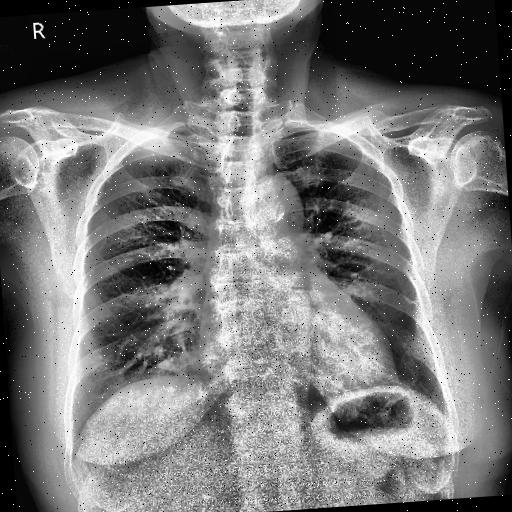0- Aortic enlargement: (240, 171, 306, 242), (245, 171, 305, 241), (248, 173, 306, 234)
